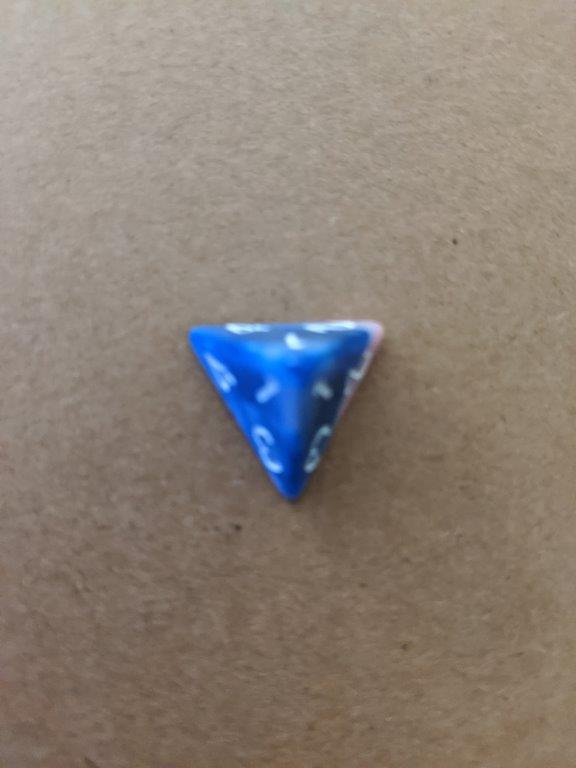d4-1: (180, 315, 396, 508)
